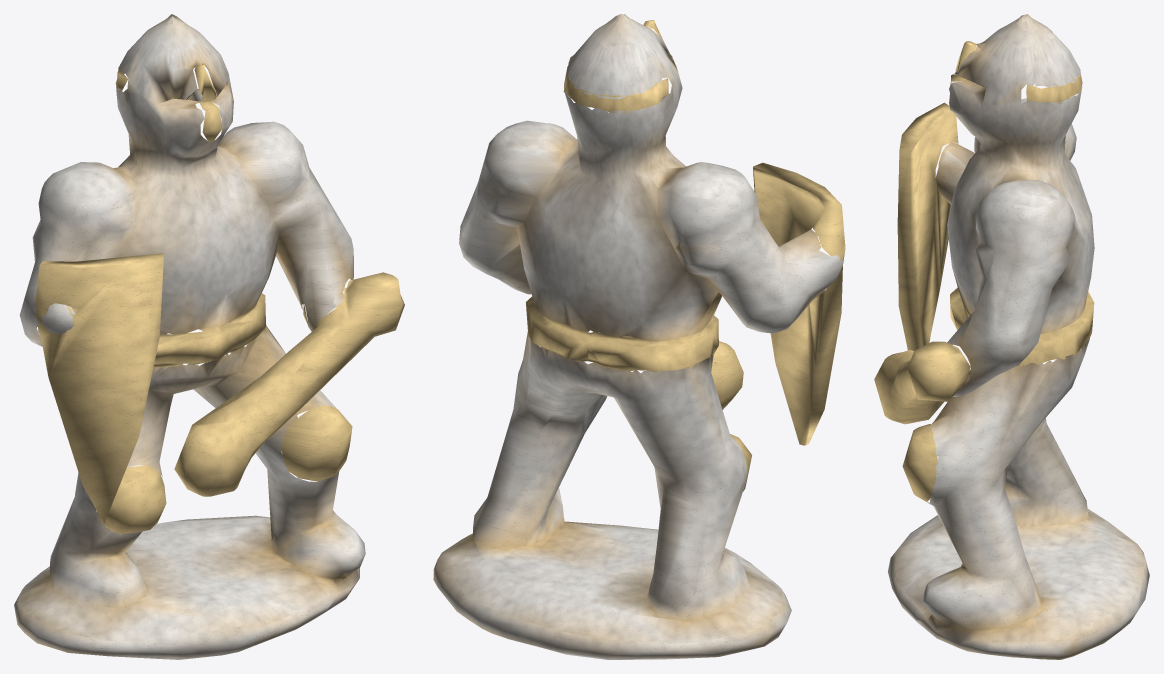
Rendered from Argent_Reliquary_White_Pawn.glb.
3 renders of one model, left to right at view 1: azimuth 30°, elevation 25°; view 2: azimuth 150°, elevation 25°; view 3: azimuth 270°, elevation 25°, orthographic. The views are drawn at different scales.
Visible parts, largest first — view 1: Argent Reliquary – White Pawn; view 2: Argent Reliquary – White Pawn; view 3: Argent Reliquary – White Pawn.
Part boxes in pixels (bbox=[...]): Argent Reliquary – White Pawn: bbox=[14, 14, 404, 659]; Argent Reliquary – White Pawn: bbox=[433, 14, 845, 659]; Argent Reliquary – White Pawn: bbox=[874, 14, 1149, 659].
Size of the model in its own units: 0.0356 by 0.0562 by 0.0243.
2 materials, 2 textured.
